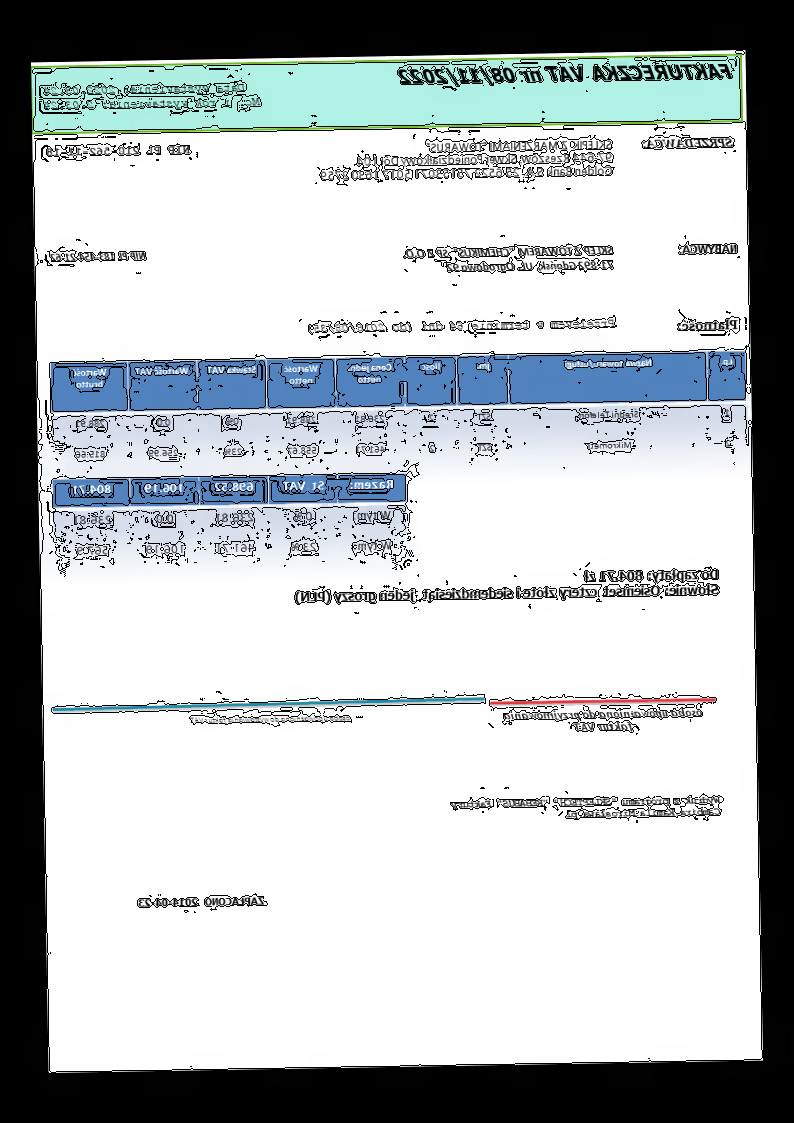Table: (50, 347, 749, 474), (51, 472, 410, 573)
TextBox: (292, 567, 723, 608), (318, 137, 615, 185), (396, 58, 736, 88), (450, 791, 724, 825), (41, 79, 263, 114), (404, 243, 616, 276), (501, 705, 706, 737), (307, 316, 618, 335), (186, 712, 354, 728), (45, 142, 194, 159), (135, 894, 267, 909), (642, 134, 736, 151), (50, 249, 150, 264), (677, 316, 740, 333), (678, 240, 741, 256)
